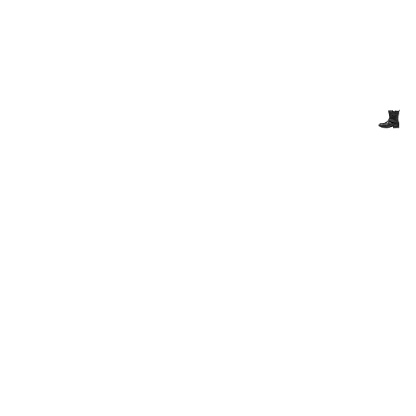Ankle_boot: (378, 108, 400, 130)
